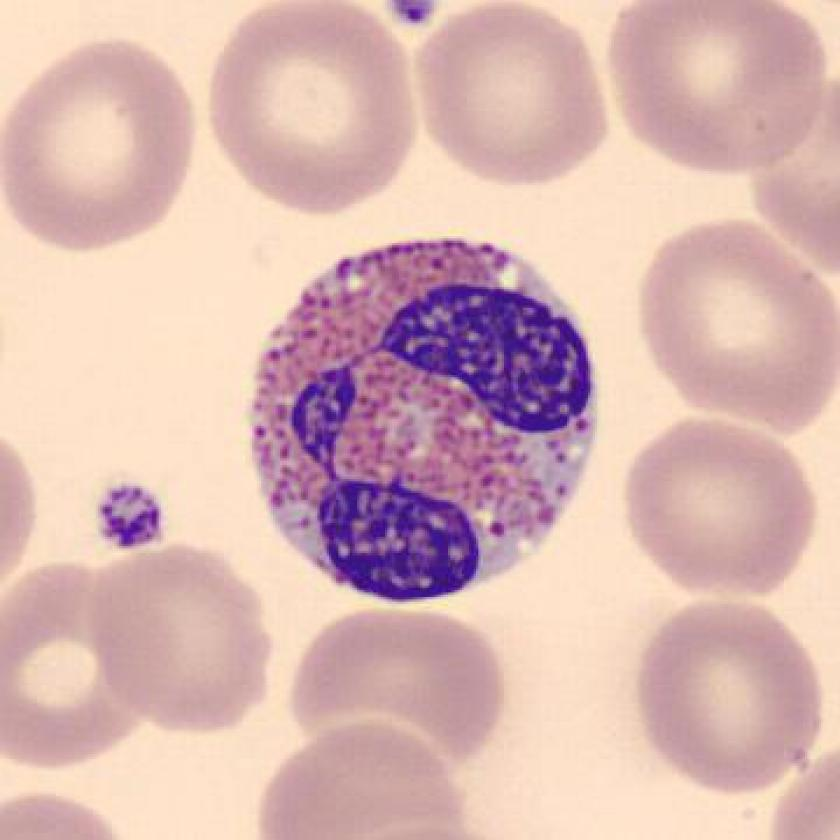eosinophil: (235, 225, 613, 612)
